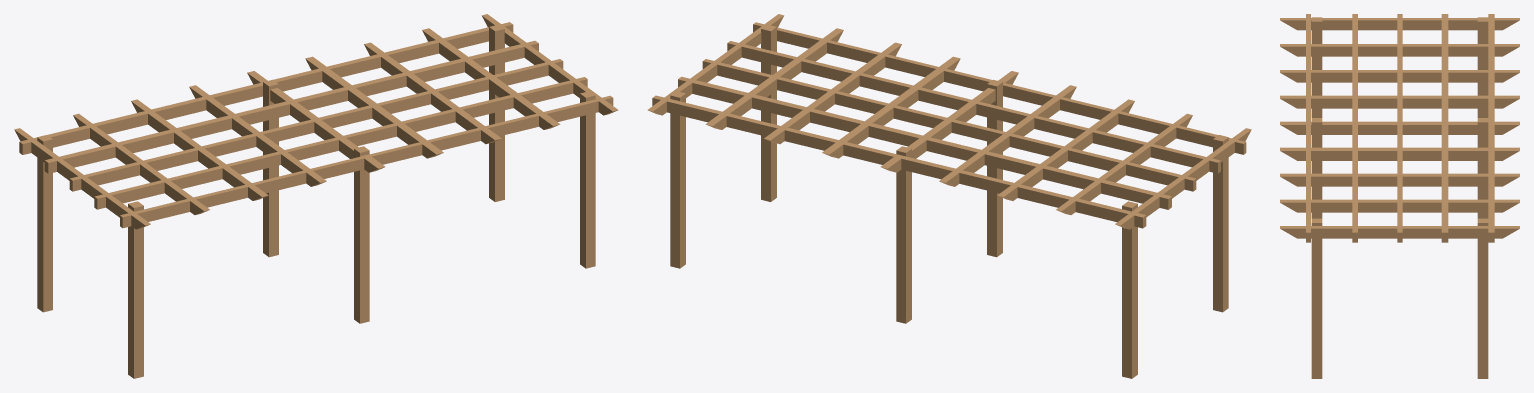
The model's file is GardenShelvesRoof.fbx.
3 views of the same model, side by side, from view 1: azimuth 30°, elevation 25°; view 2: azimuth 150°, elevation 25°; view 3: azimuth 270°, elevation 25° (orthographic). The views are drawn at different scales.
Visible parts, largest first — view 1: GardenShelvesRoof; view 2: GardenShelvesRoof; view 3: GardenShelvesRoof.
Boxes of the visible parts, x1,y1,x2,y2 form: GardenShelvesRoof: [14, 14, 618, 378]; GardenShelvesRoof: [647, 14, 1251, 378]; GardenShelvesRoof: [1280, 14, 1519, 378].
Bounding box in the file's own units: 11.33 × 3.77 × 5.25.
